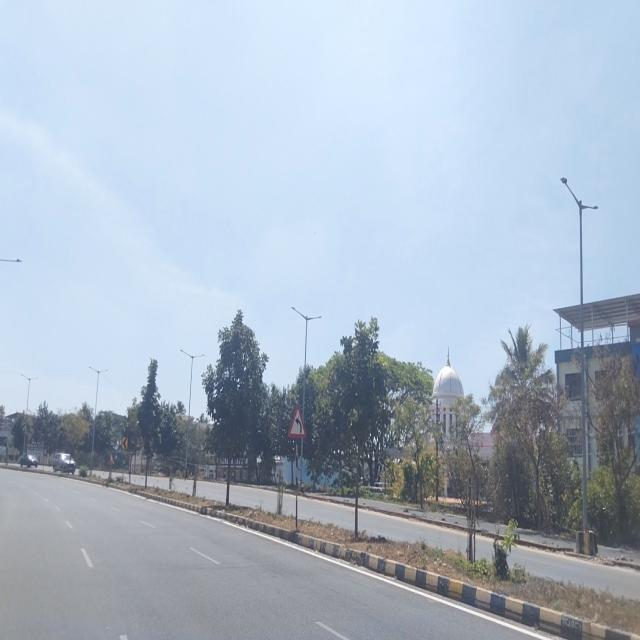bien_cam: (288, 405, 306, 438)
